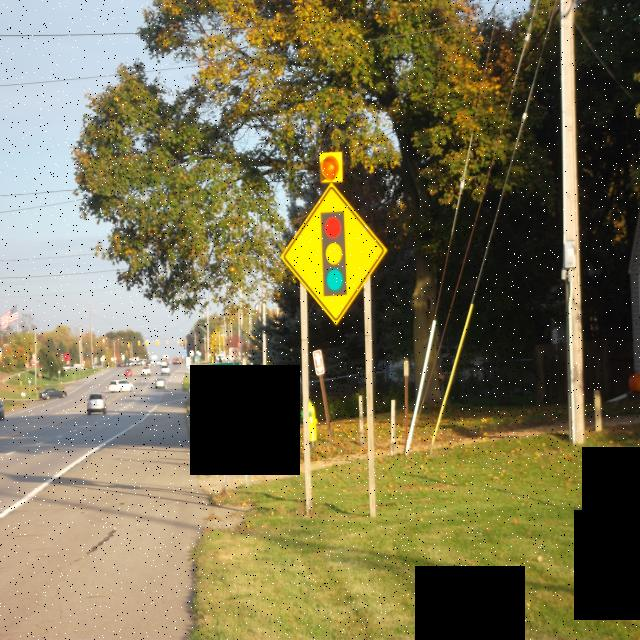warning: (280, 182, 389, 328)
